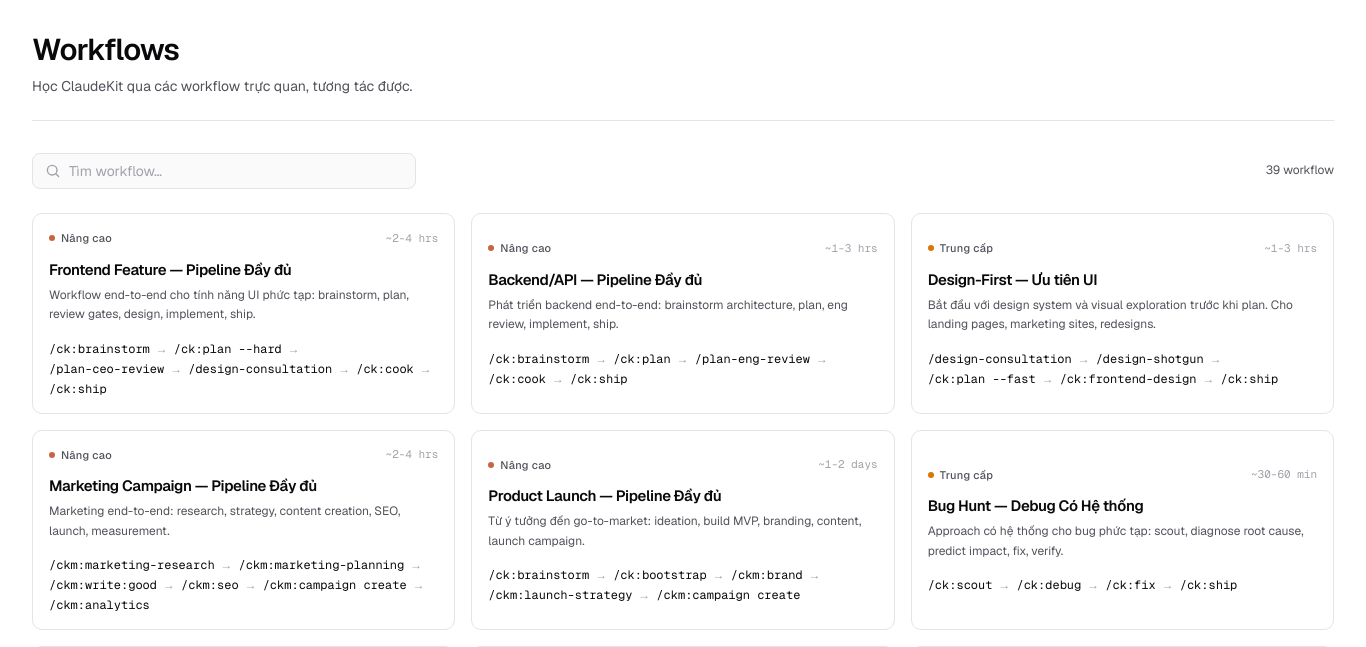
Test case: WorkflowsPageContent › expands detail when workflow card clicked
Click the heading "Frontend Feature — Pipeline Đầy đủ": {"x": 170, "y": 269} [49,260,291,278]
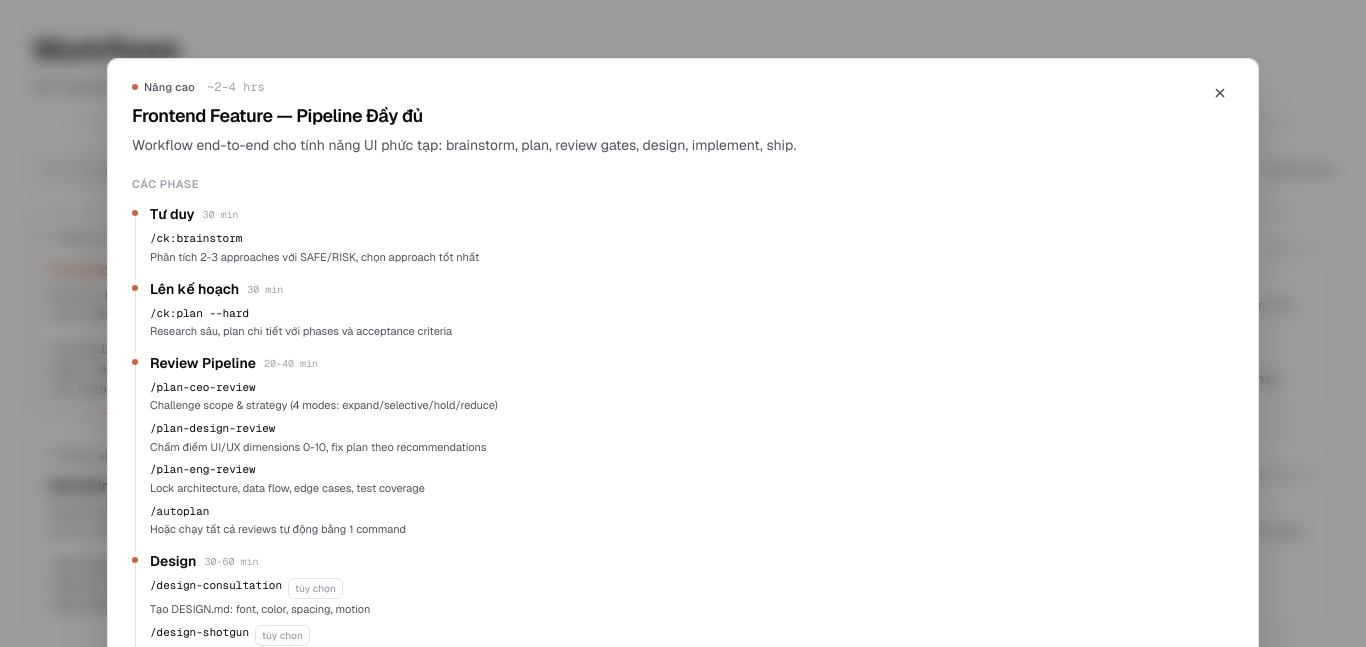
expect the heading "Các Phase" is shown: met, box [132,177,199,191]
